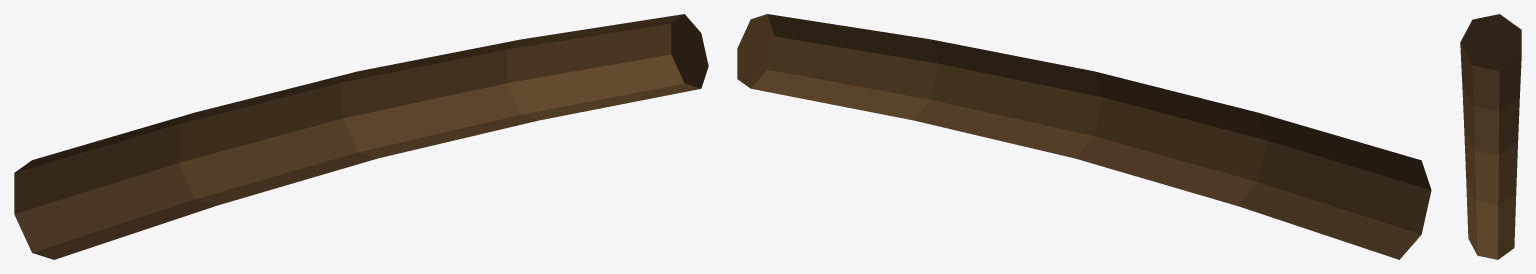
The model's file is tronco-caido.glb.
3 renders of one model, left to right at view 1: azimuth 30°, elevation 25°; view 2: azimuth 150°, elevation 25°; view 3: azimuth 270°, elevation 25°, orthographic. The views are drawn at different scales.
Visible parts, largest first — view 1: tronco-caido; view 2: tronco-caido; view 3: tronco-caido.
Boxes of the visible parts, x1,y1,x2,y2 form: tronco-caido: (14, 14, 708, 259); tronco-caido: (737, 14, 1431, 259); tronco-caido: (1460, 14, 1521, 259).
Bounding box in the file's own units: 4.3 × 0.6484 × 0.5703.
